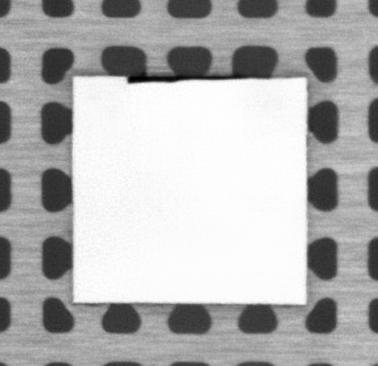DIE_BROKEN: (125, 72, 231, 85)
